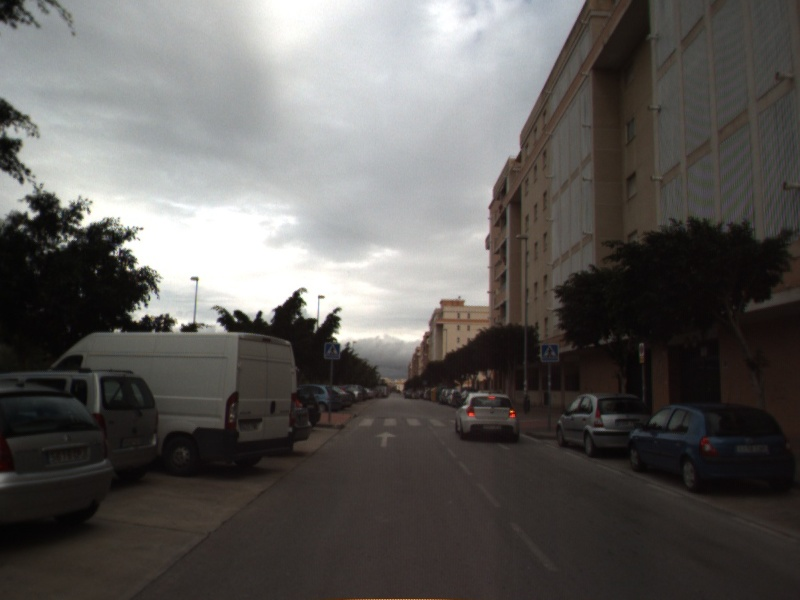STRAIGHT: (373, 429, 399, 449)
